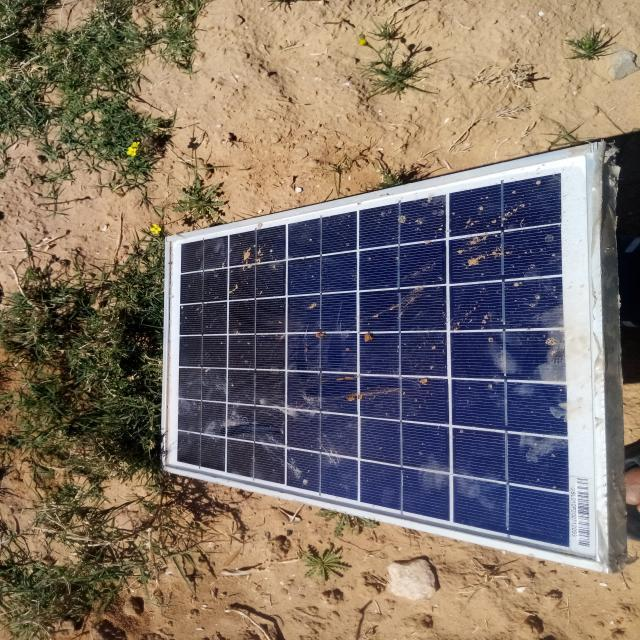faulty: (164, 149, 609, 566)
